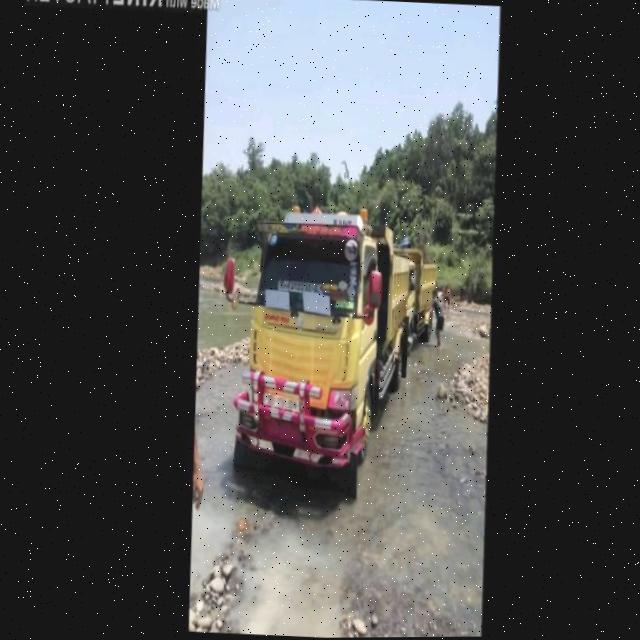truck: (206, 201, 442, 505)
